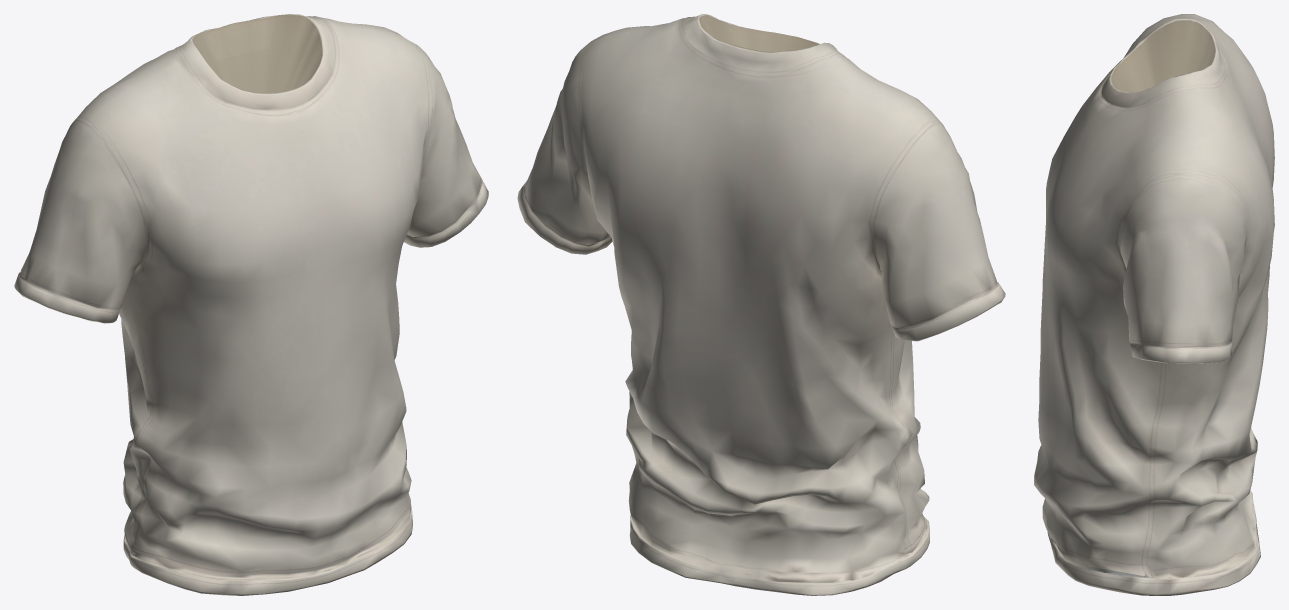
The model's file is Ivory-Relaxed-Tee.fbx.
The picture shows the model from 3 angles, left to right: view 1: azimuth 30°, elevation 25°; view 2: azimuth 150°, elevation 25°; view 3: azimuth 270°, elevation 25°; orthographic projection. The views are drawn at different scales.
Visible parts, largest first — view 1: Ivory Relaxed Tee Mesh; view 2: Ivory Relaxed Tee Mesh; view 3: Ivory Relaxed Tee Mesh.
Boxes of the visible parts, x1,y1,x2,y2 form: Ivory Relaxed Tee Mesh: (14, 14, 488, 595); Ivory Relaxed Tee Mesh: (517, 14, 1005, 595); Ivory Relaxed Tee Mesh: (1034, 14, 1274, 595).
Bounding box in the file's own units: 0.9551 × 0.998 × 0.4395.
1 material, 1 textured.
